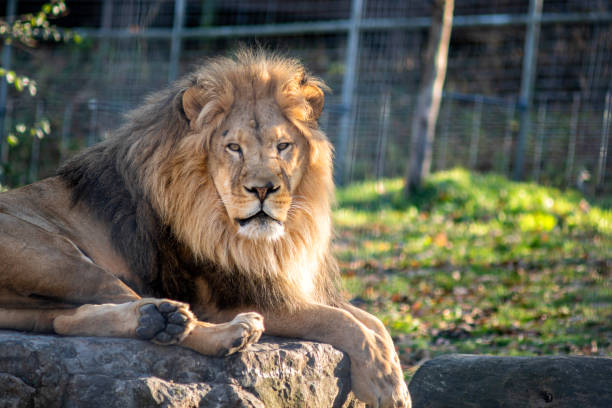lion: (50, 24, 400, 339)
